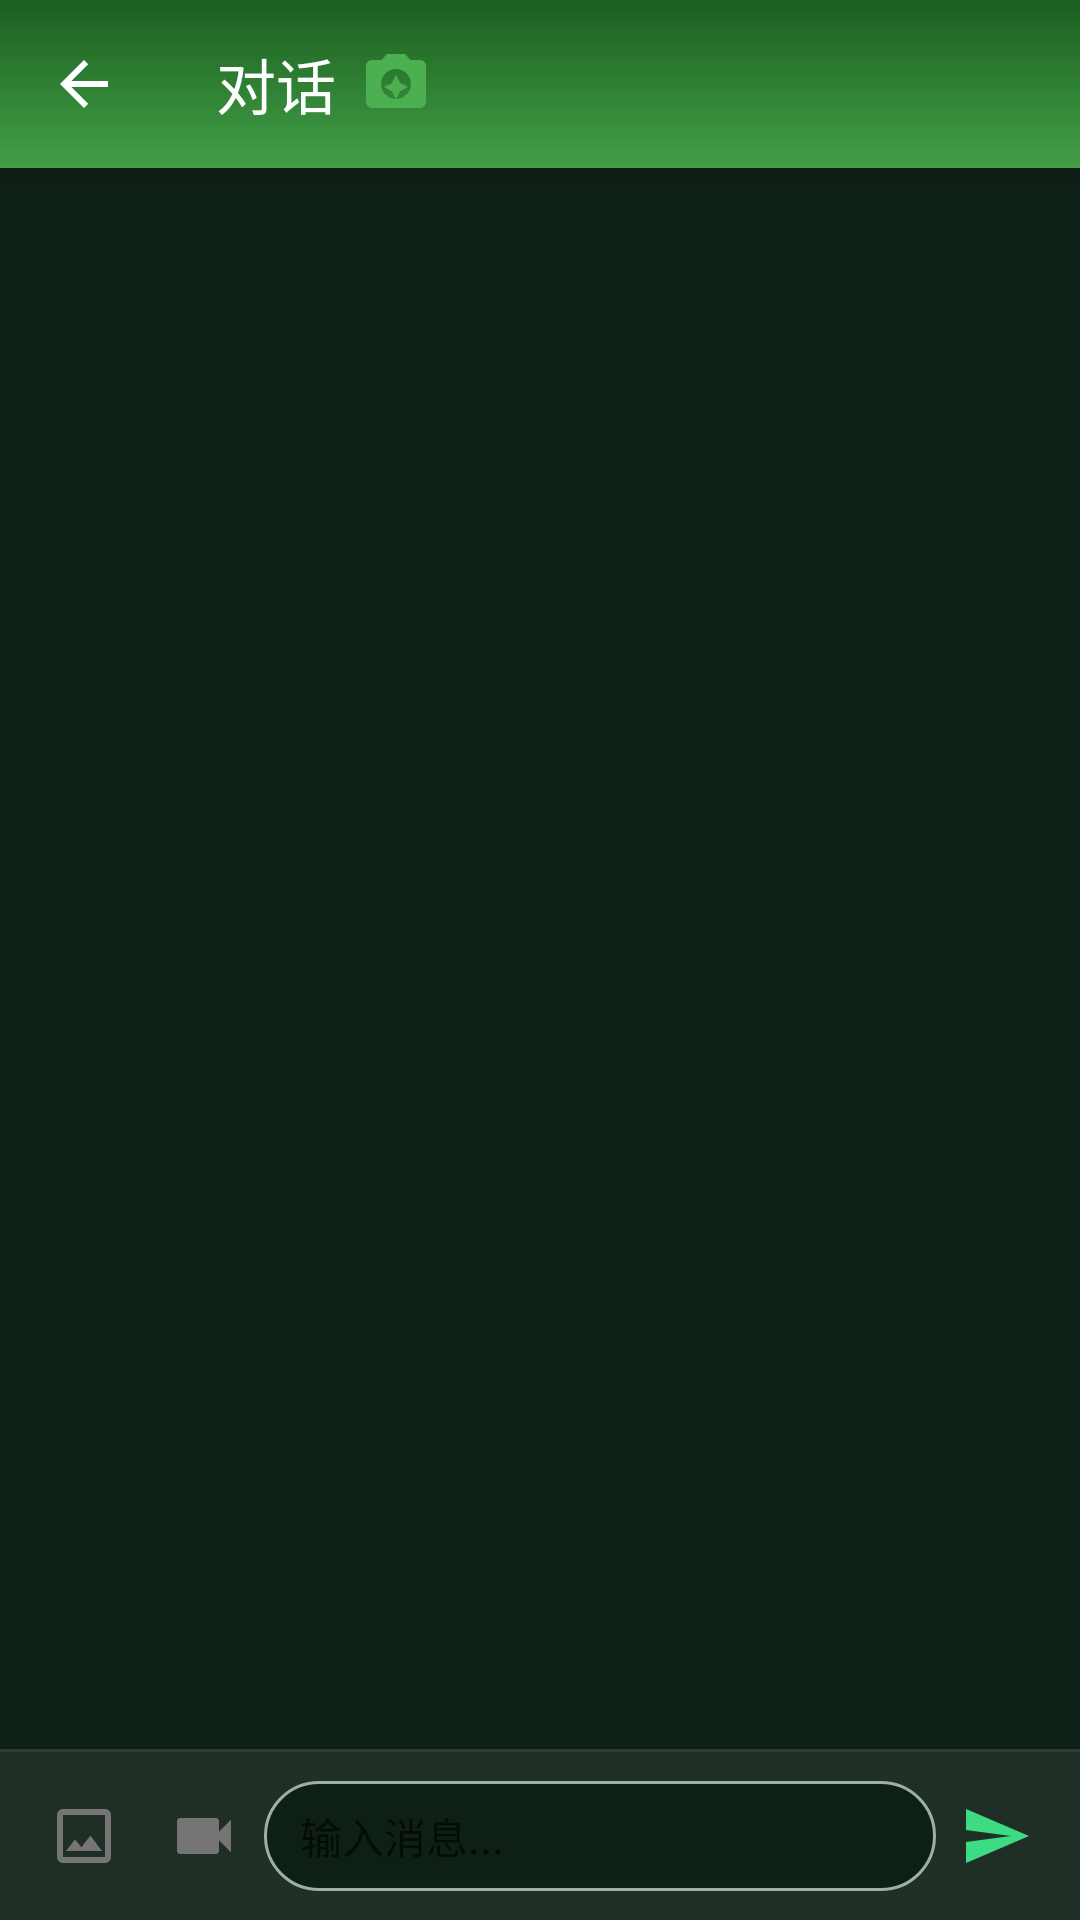

Where to tap for icons on this 1080 × 1920 app screen, as point (x, y):
发送: point (997, 1836)
发送图片: point (84, 1836)
发送视频: point (204, 1836)
环境快照: point (396, 84)
